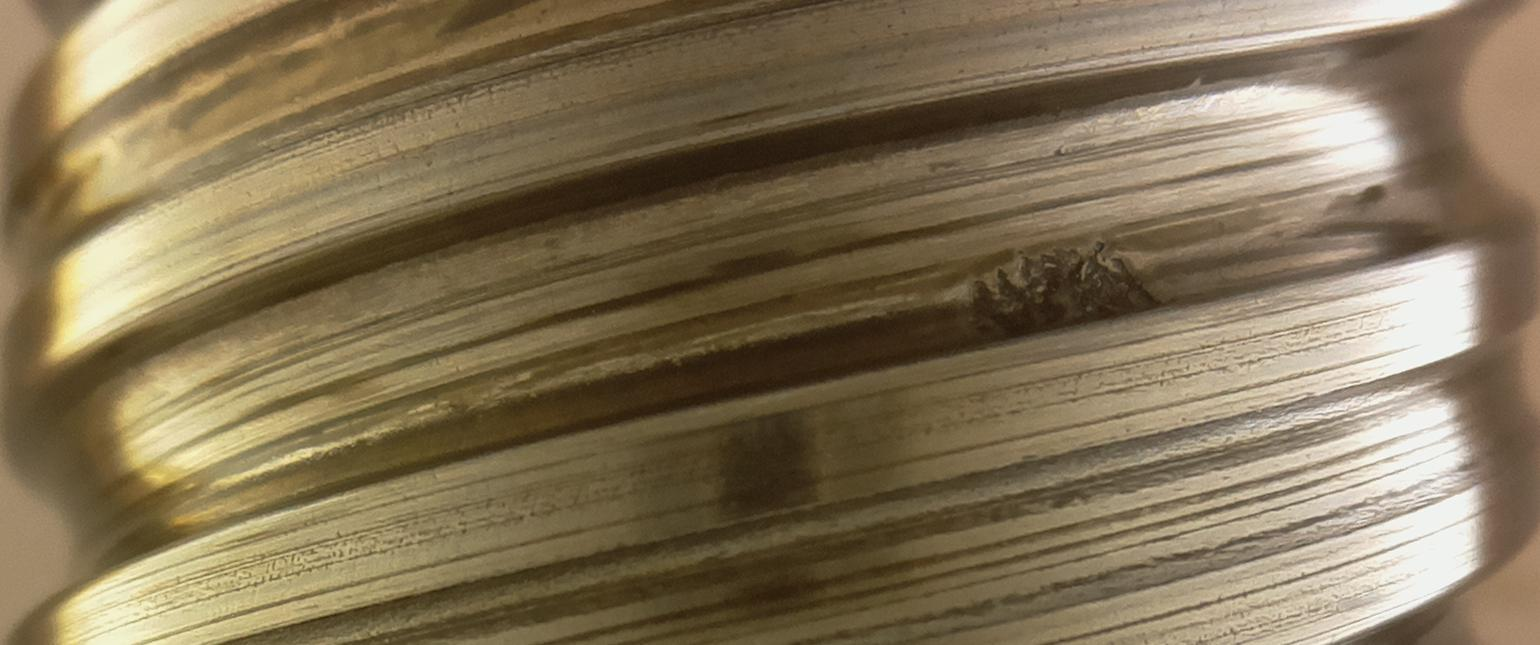pitting: (973, 240, 1162, 341)
